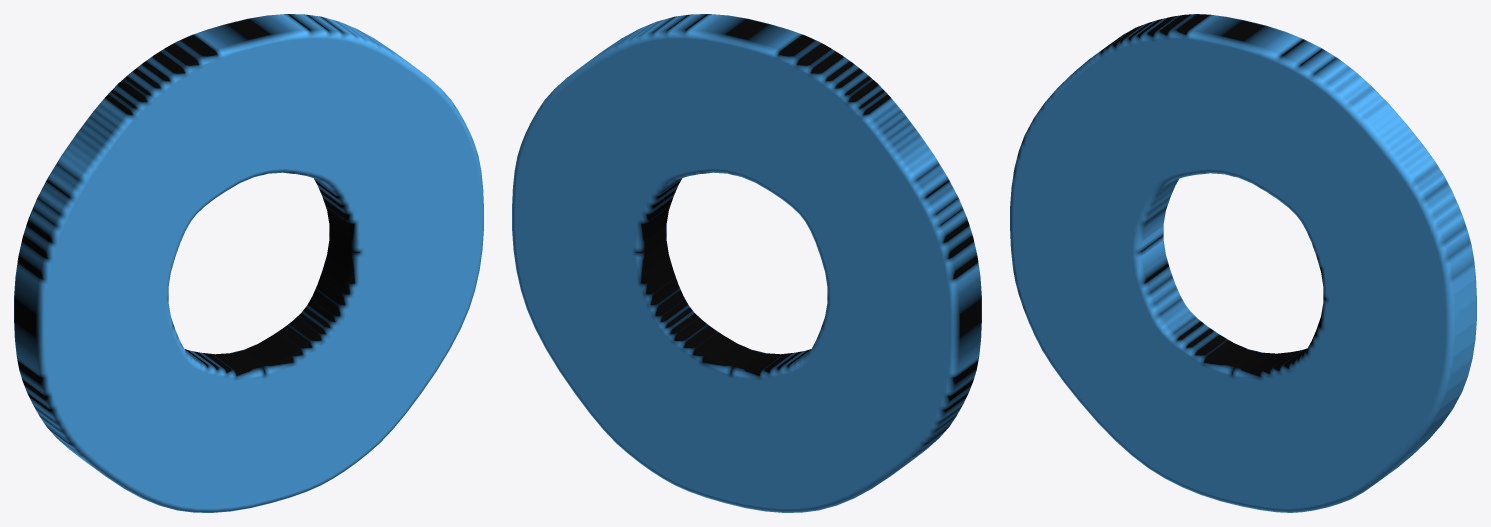
The model's file is sample-ring.glb.
3 views of the same model, side by side, from view 1: azimuth 30°, elevation 25°; view 2: azimuth 150°, elevation 25°; view 3: azimuth 330°, elevation 25° (orthographic).
Parts seen in each view (by area): view 1: extrusion; view 2: extrusion; view 3: extrusion.
Part boxes in pixels (<box>): extrusion: <box>14,14,483,512</box>; extrusion: <box>512,14,981,512</box>; extrusion: <box>1010,14,1476,512</box>.
Size of the model in its own units: 0.7422 by 0.7422 by 0.08.
Materials: 1 (1 with a texture image).
